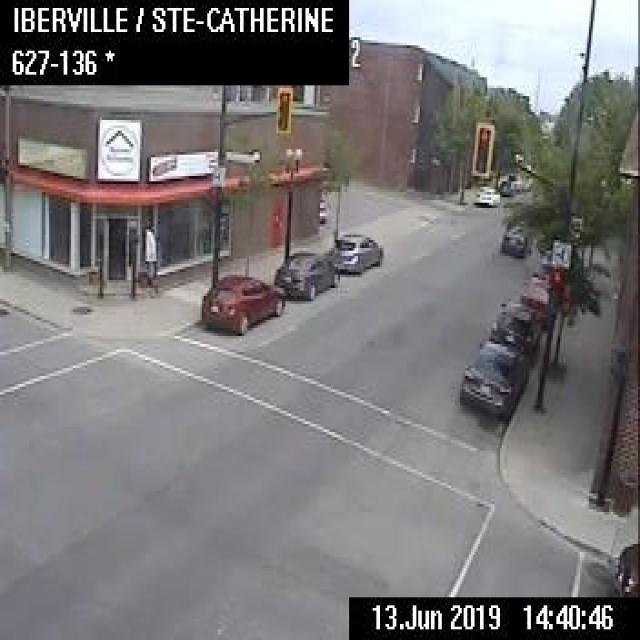pedestrian: (142, 221, 158, 296)
vehicle: (458, 336, 530, 413), (198, 272, 285, 330), (488, 298, 544, 361), (272, 250, 338, 298), (327, 232, 382, 274), (611, 541, 638, 595), (519, 268, 552, 311), (534, 249, 558, 284), (499, 226, 527, 255), (474, 184, 500, 203), (318, 193, 326, 221)
